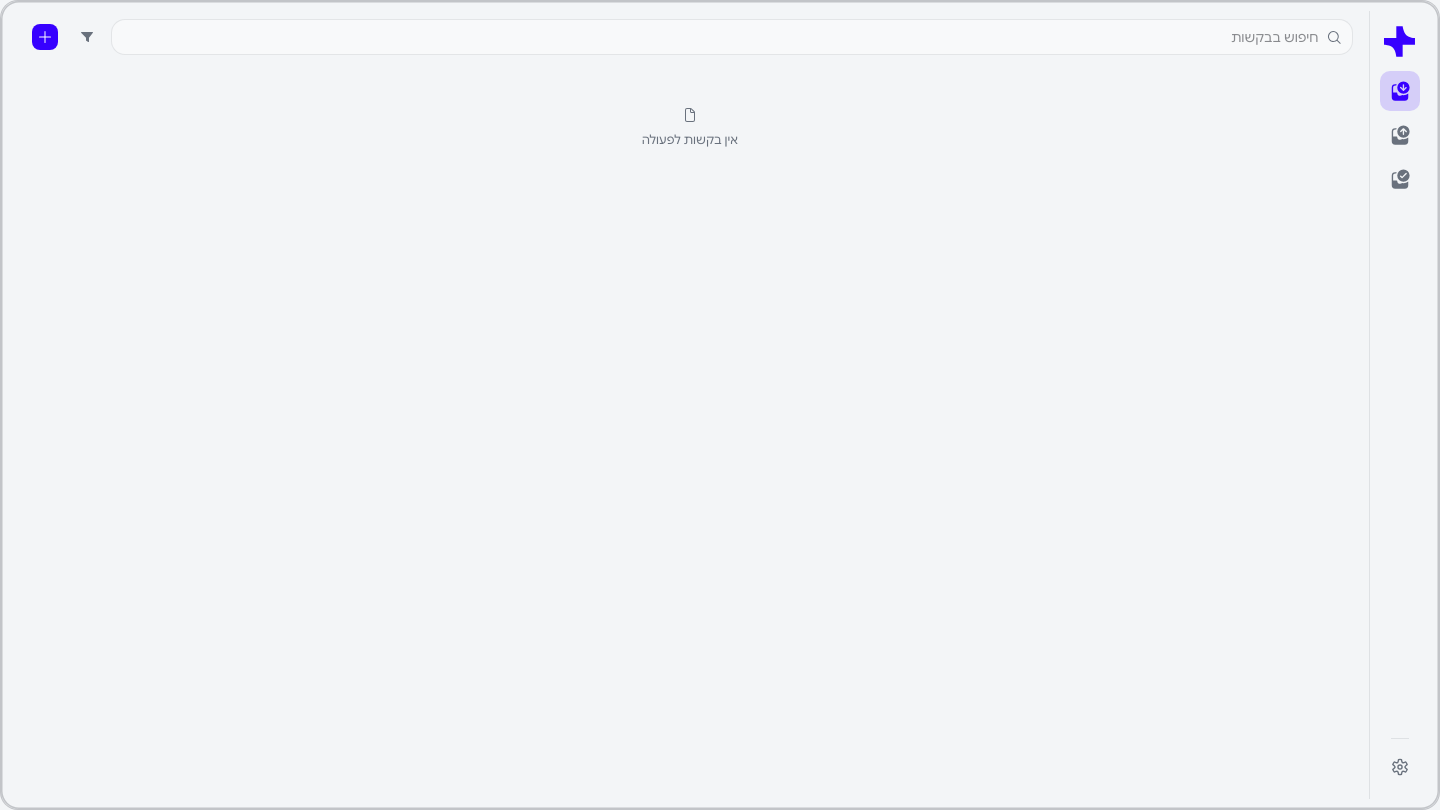
WorkspaceReadyScreen › does not send a file request without a recipient or description
Click the button named "בקשה חדשה" at {"x": 45, "y": 37}, box [27,19,63,55]
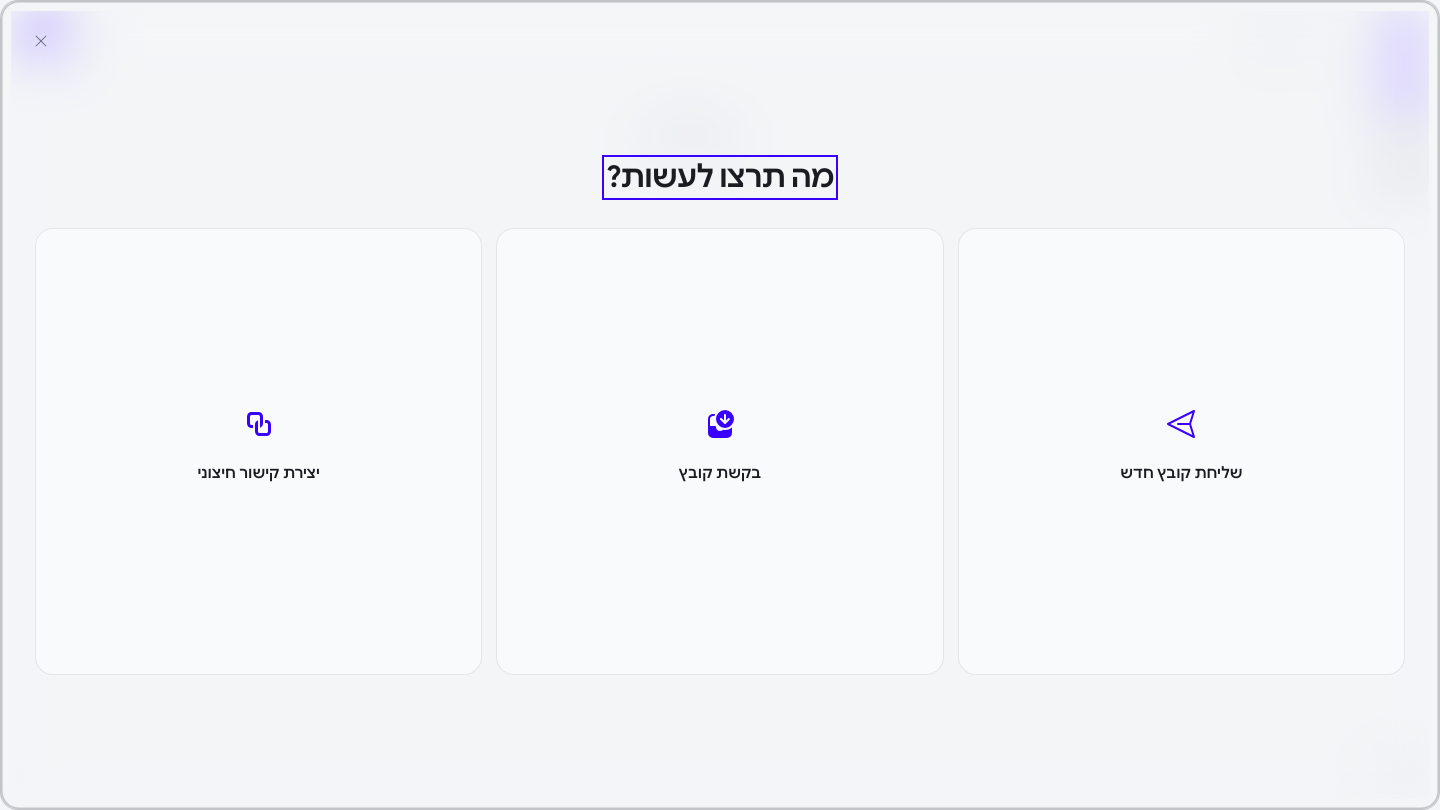
Click the button "בקשת קובץ" at {"x": 720, "y": 452}, box [496,228,944,675]
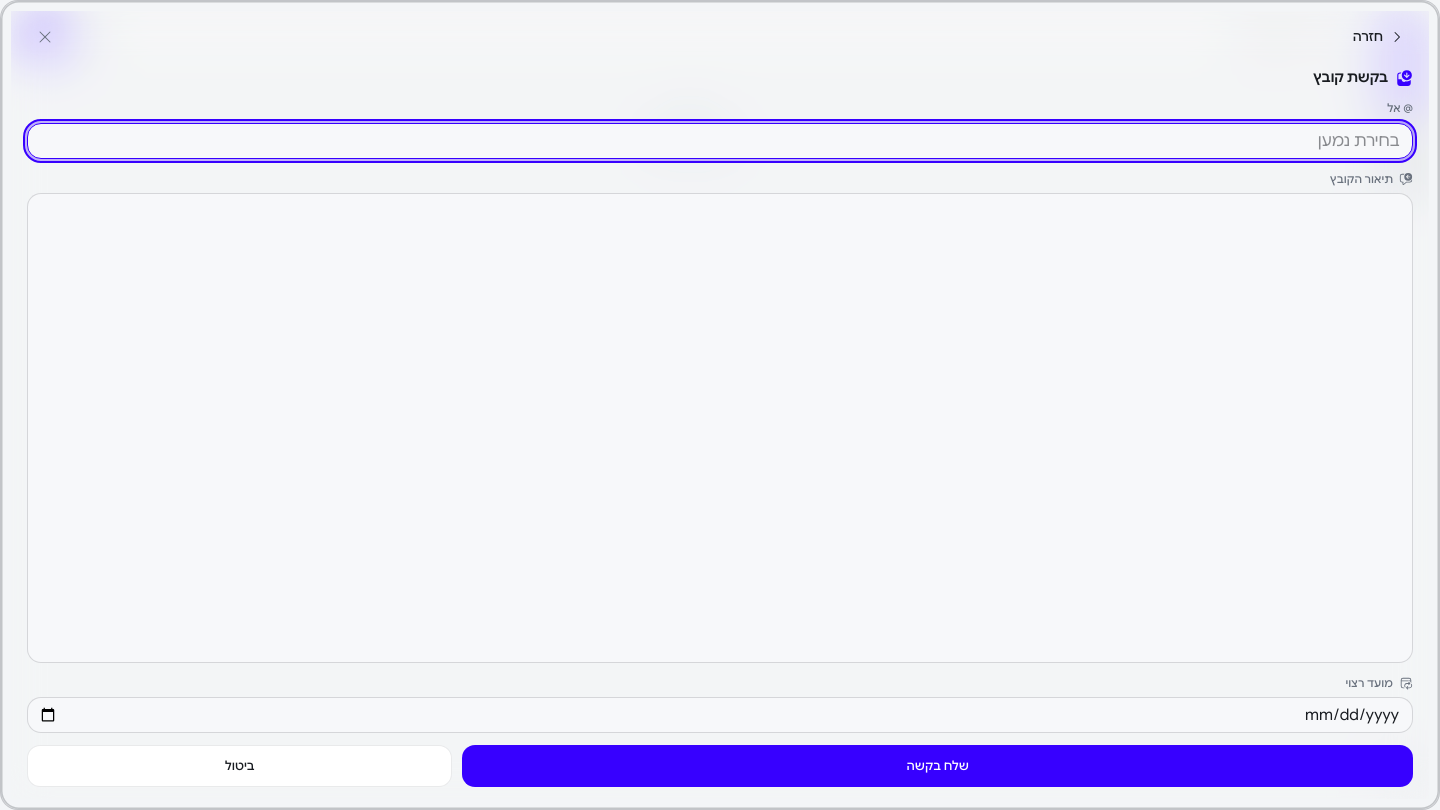
Click the button "שלח בקשה" at {"x": 938, "y": 766}, box [462,745,1413,787]
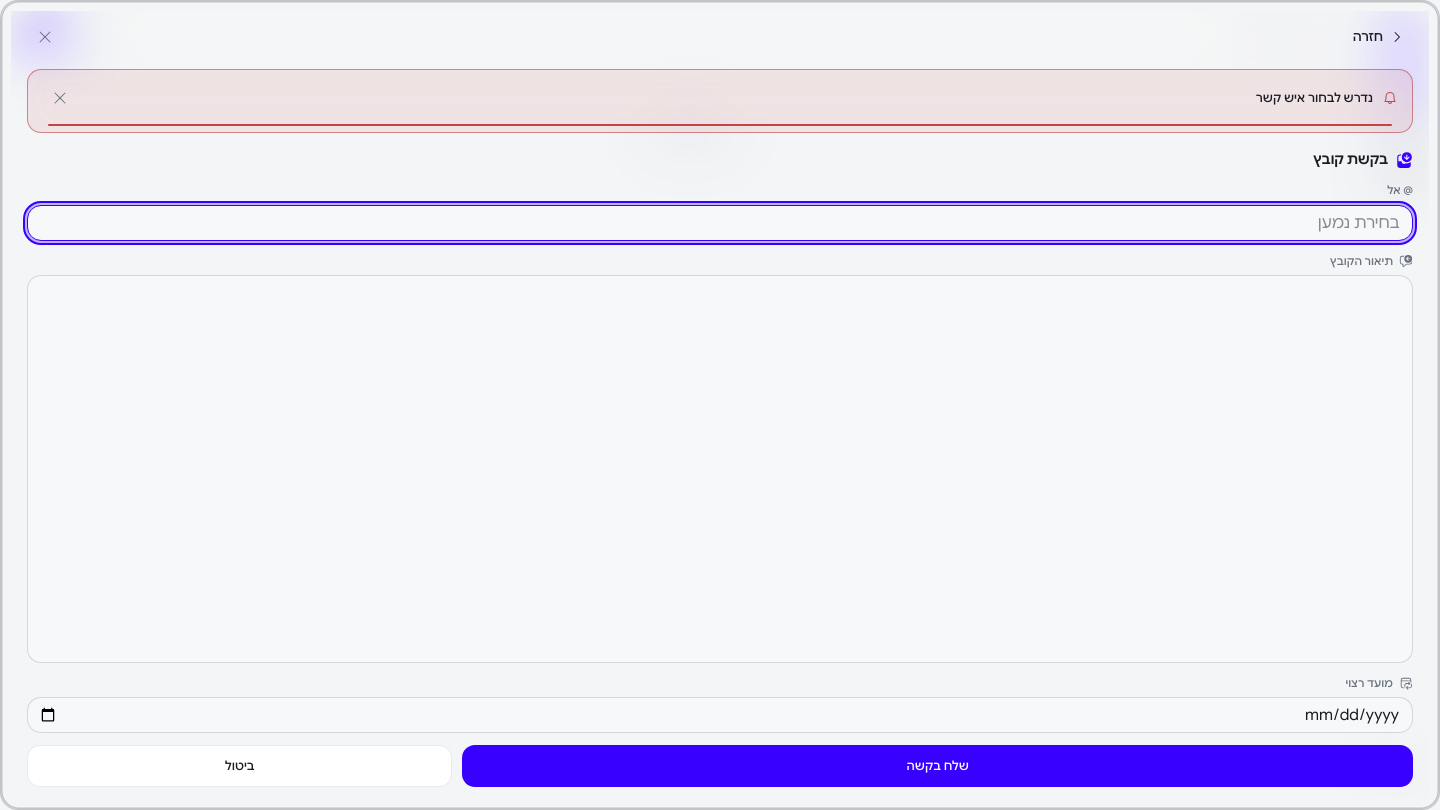
Expected: the message reads "נדרש לבחור איש קשר", [1256,90,1373,105]
Type "דני" into the dropdown labelled "@ אל" at {"x": 720, "y": 222}, box [27,204,1413,240]
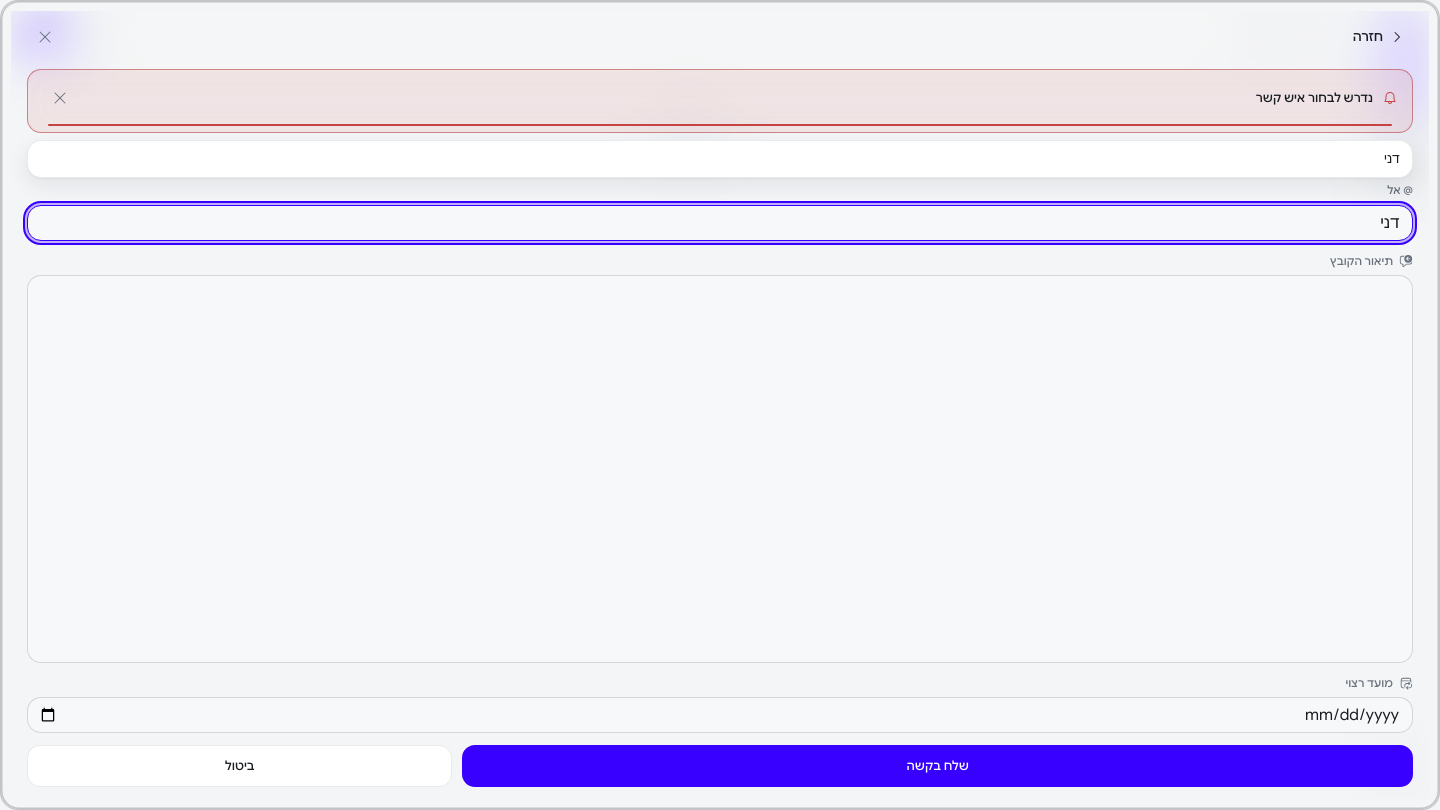
Click the option "דני" at {"x": 1392, "y": 159}, box [28,141,1412,177]
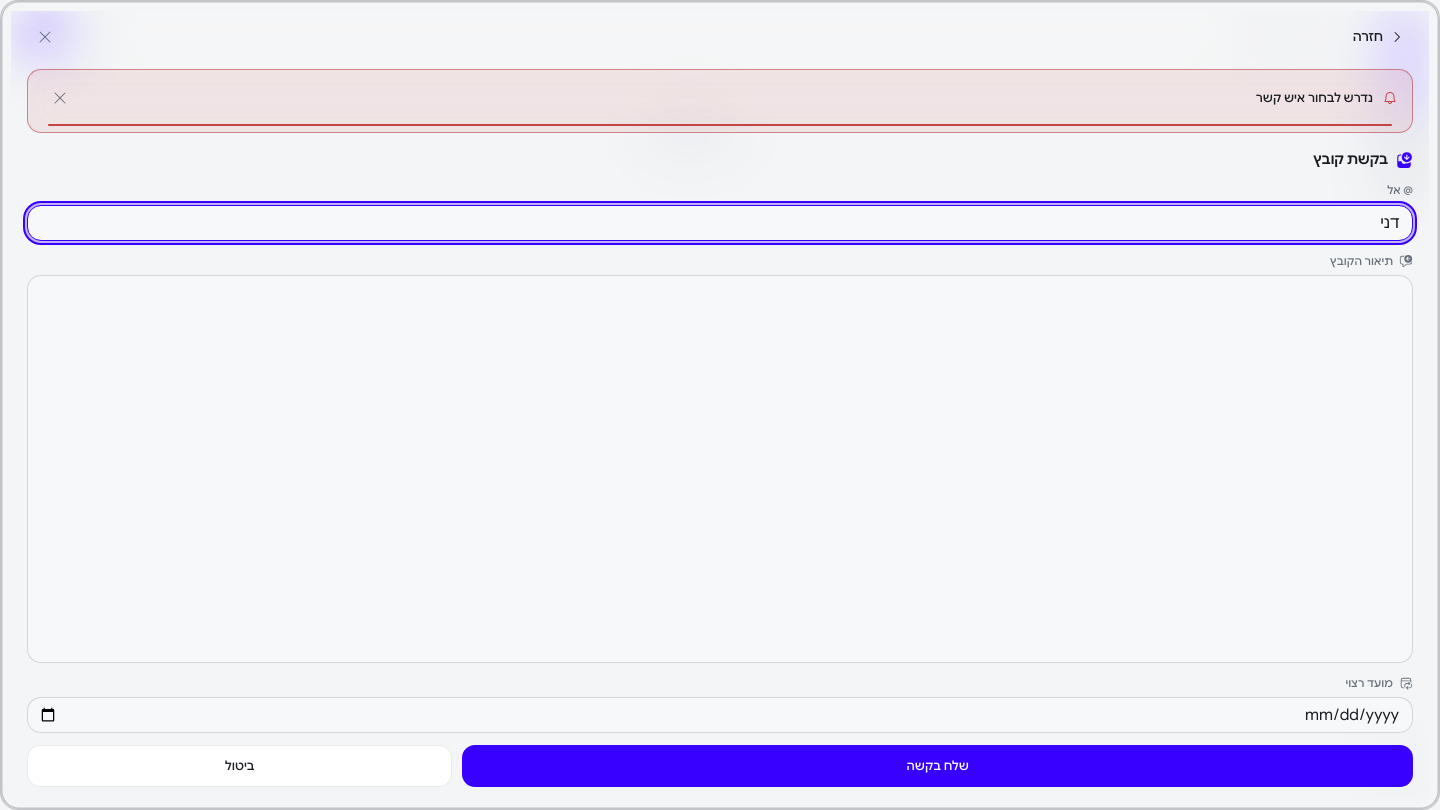
Click the button "שלח בקשה" at {"x": 938, "y": 766}, box [462,745,1413,787]
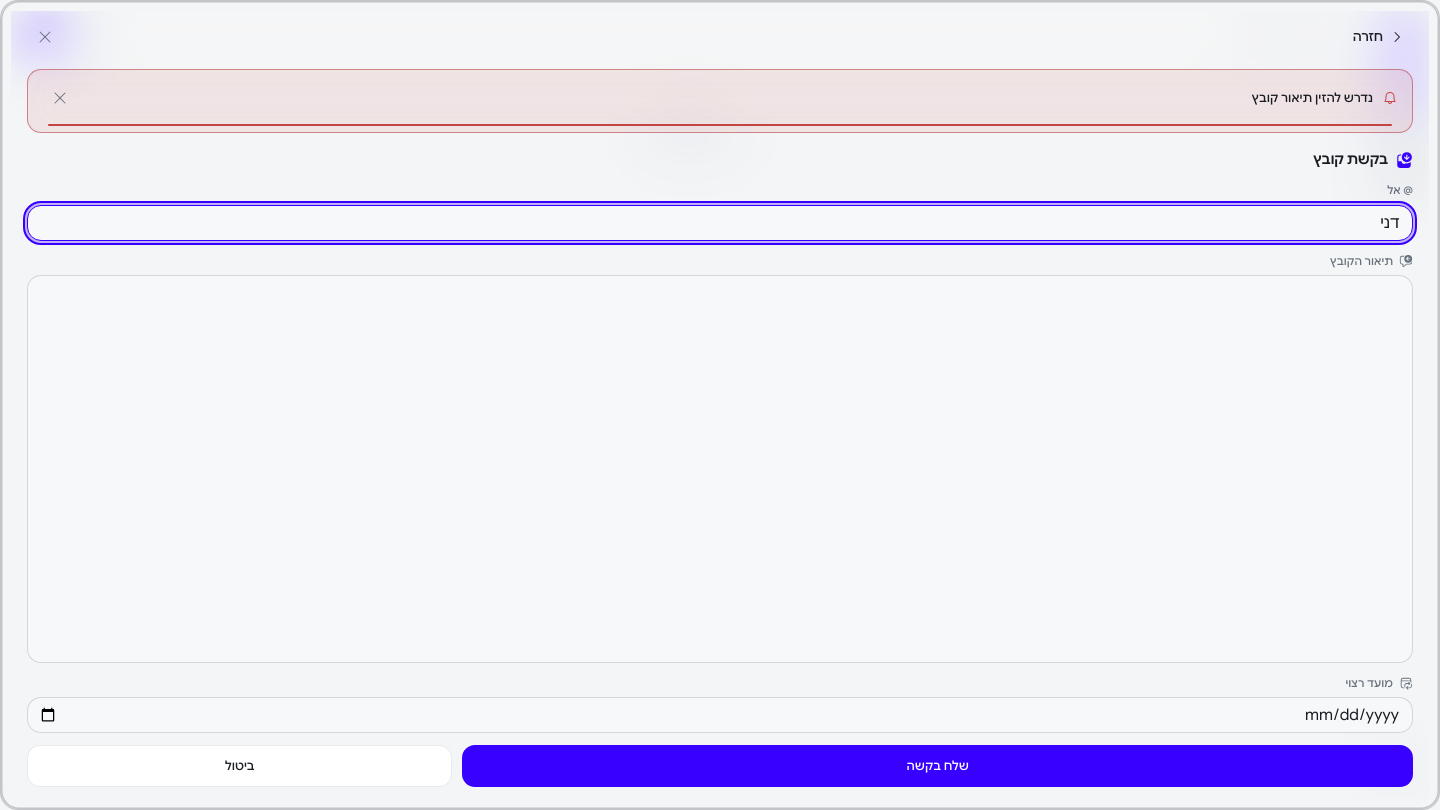
Expected: the message reads "נדרש להזין תיאור קובץ", [1252,90,1373,105]
